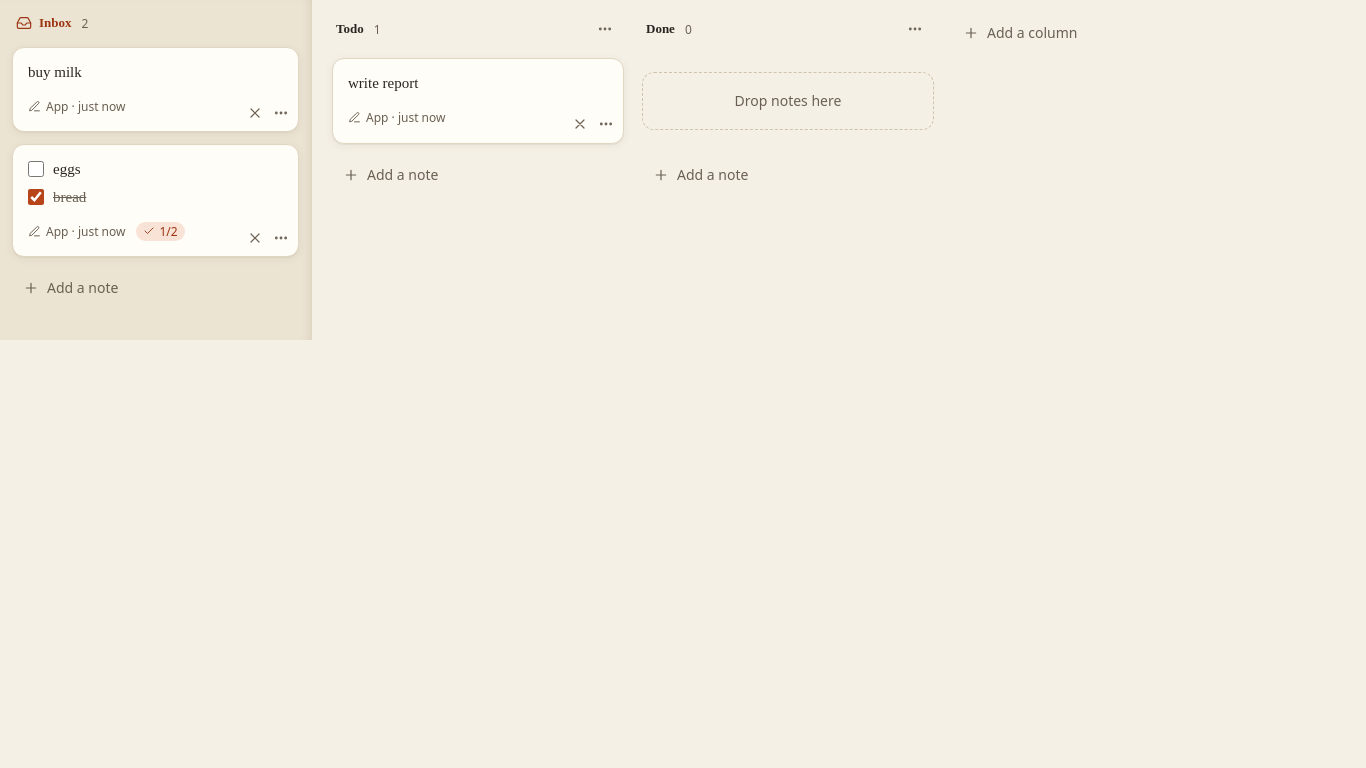
Test: BoardShell › rolls a failed move back and says so
This screenshot has width=1366, height=768.
Click the button named "More actions" below "buy milk" at (280,113), box [267,100,293,126]
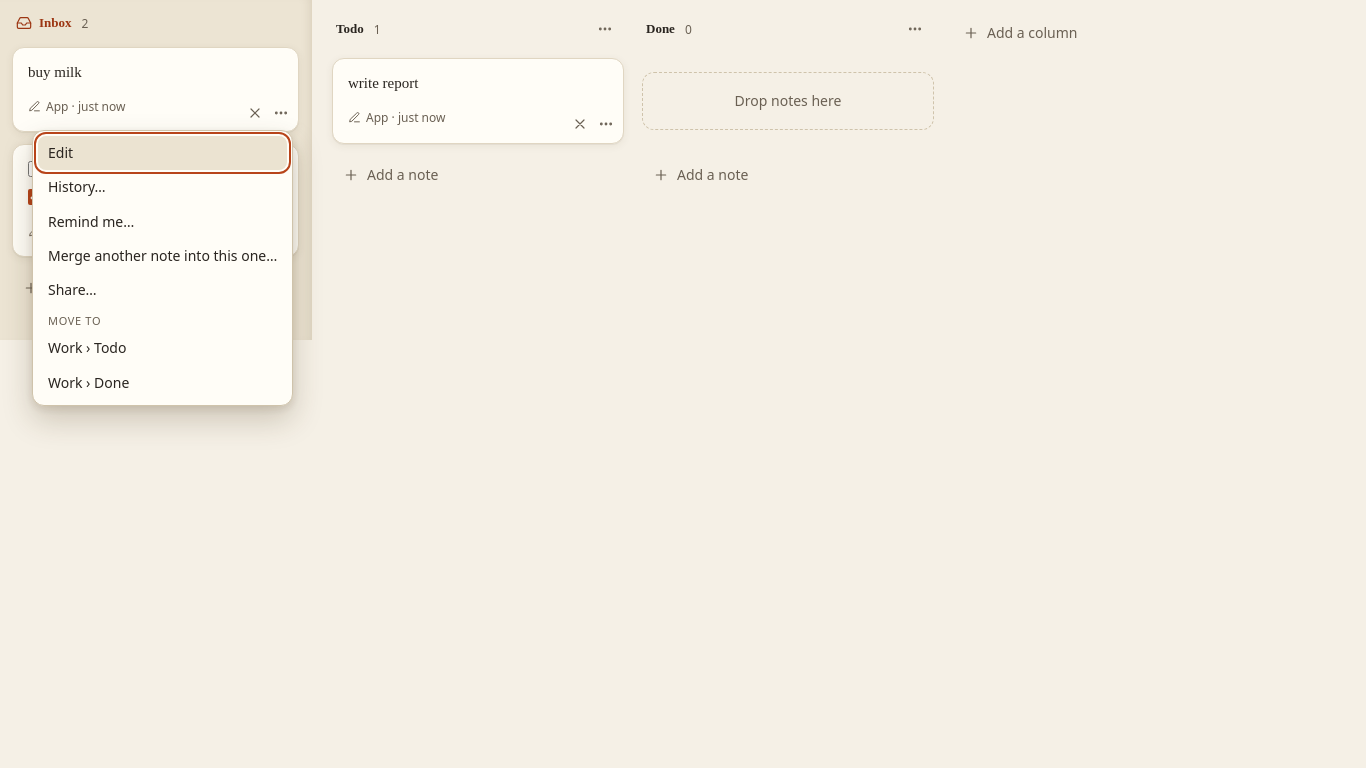
Click the menu item "Work › Done" at (163,383), box [38,366,287,400]
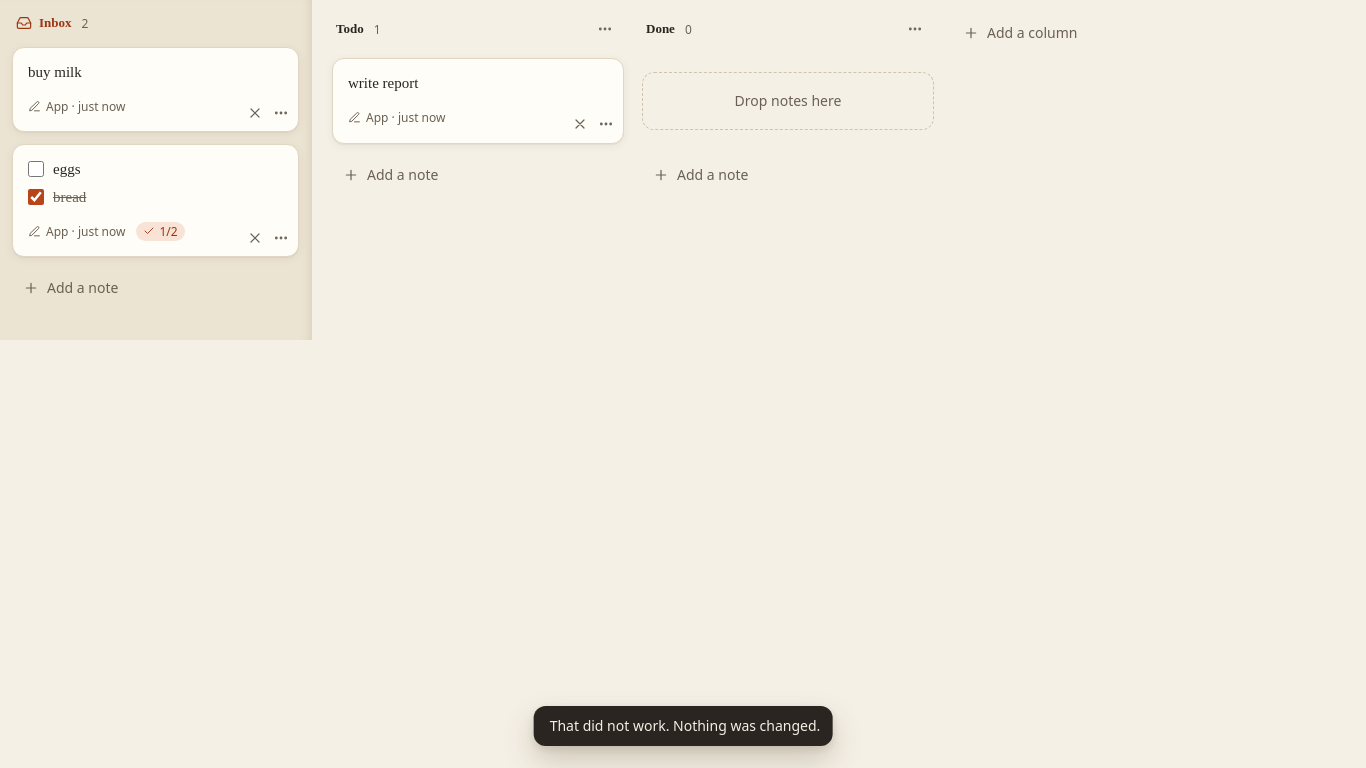
Expected: the text "buy milk" is shown, [28,64,82,80]
Expected: the text "That did not work. Nothing was changed." is shown, [550,716,820,736]
